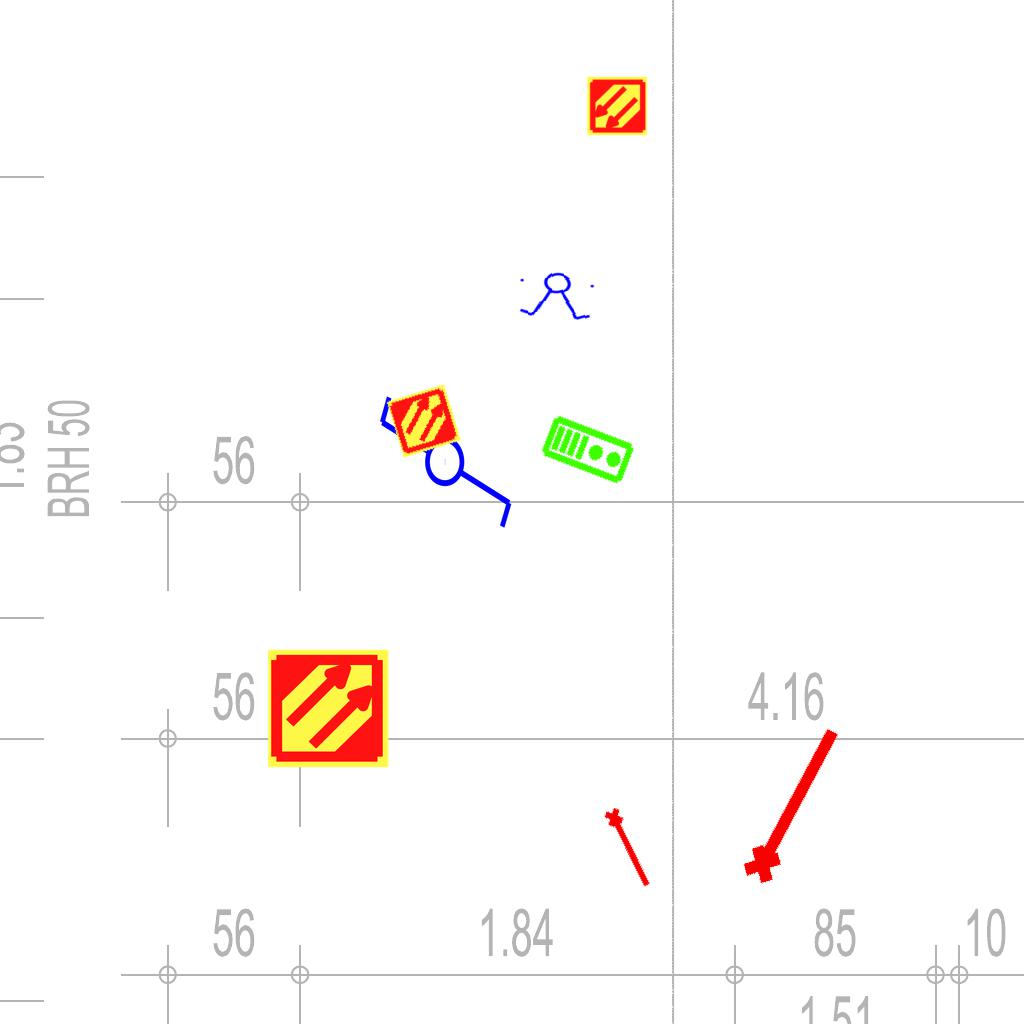ASR_Ansaugoeffnung: (730, 714, 854, 892), (600, 802, 660, 893)
ASR_Ansaugrauchmelder: (266, 646, 391, 771), (385, 382, 463, 460), (586, 75, 648, 137)
Gegensprechanlage_mit_Video: (539, 411, 638, 487)
Serienschalter: (513, 268, 601, 324)
Wechselschalter: (375, 375, 519, 532)
